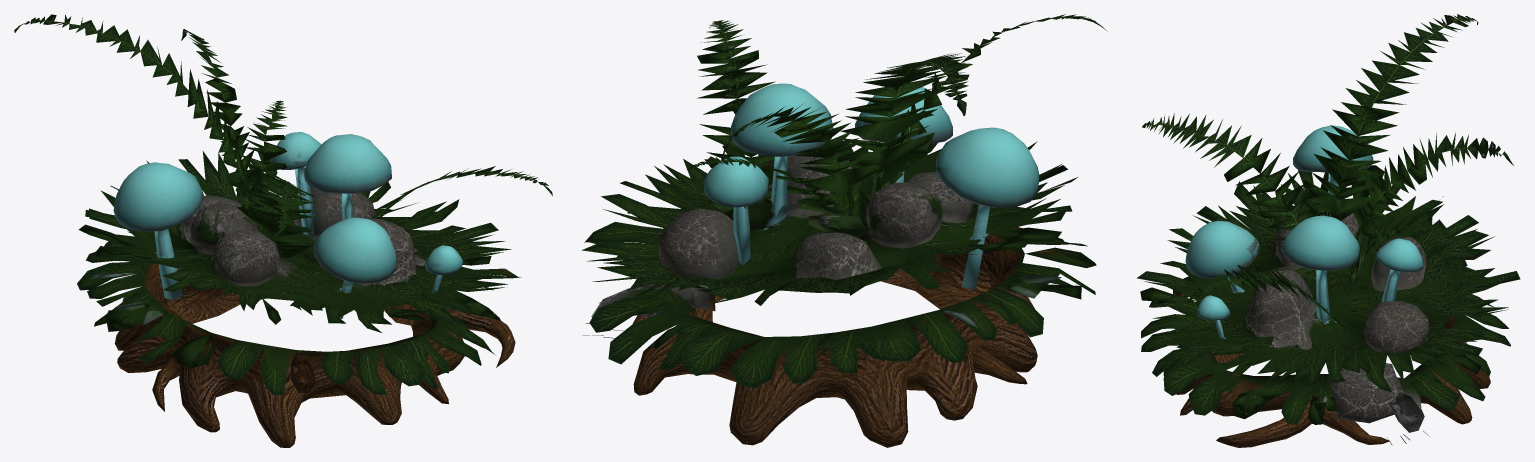
File: tripo_convert_22dbc1df-2952-4666-b147-6a78fb83de54.fbx
3 renders of one model, left to right at view 1: azimuth 30°, elevation 25°; view 2: azimuth 150°, elevation 25°; view 3: azimuth 270°, elevation 25°, orthographic. The views are drawn at different scales.
Visible parts, largest first — view 1: tripo_node_22dbc1df; view 2: tripo_node_22dbc1df; view 3: tripo_node_22dbc1df.
Boxes of the visible parts, x1,y1,x2,y2 form: tripo_node_22dbc1df: [14, 14, 552, 447]; tripo_node_22dbc1df: [582, 14, 1107, 447]; tripo_node_22dbc1df: [1137, 14, 1520, 447].
Bounding box in the file's own units: 0.998 × 0.834 × 0.9629.
Materials: 1 (1 with a texture image).
